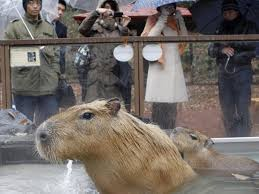capivara: (34, 97, 192, 194), (172, 126, 259, 178)
